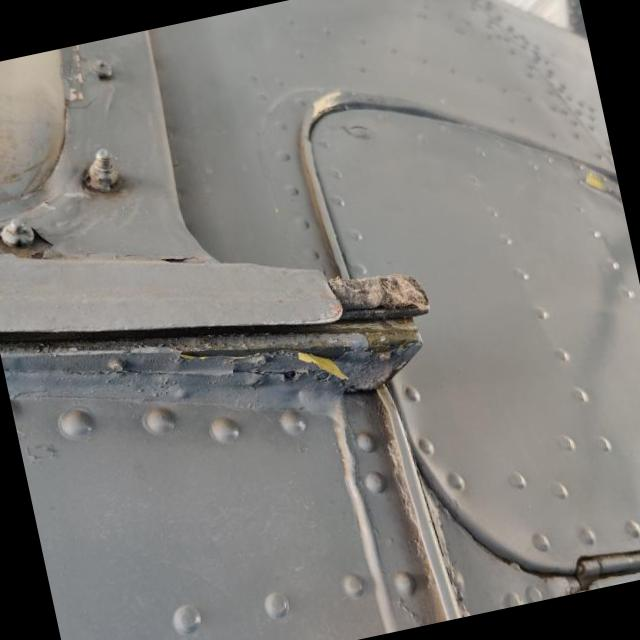Paint-off: (297, 353, 347, 380)
